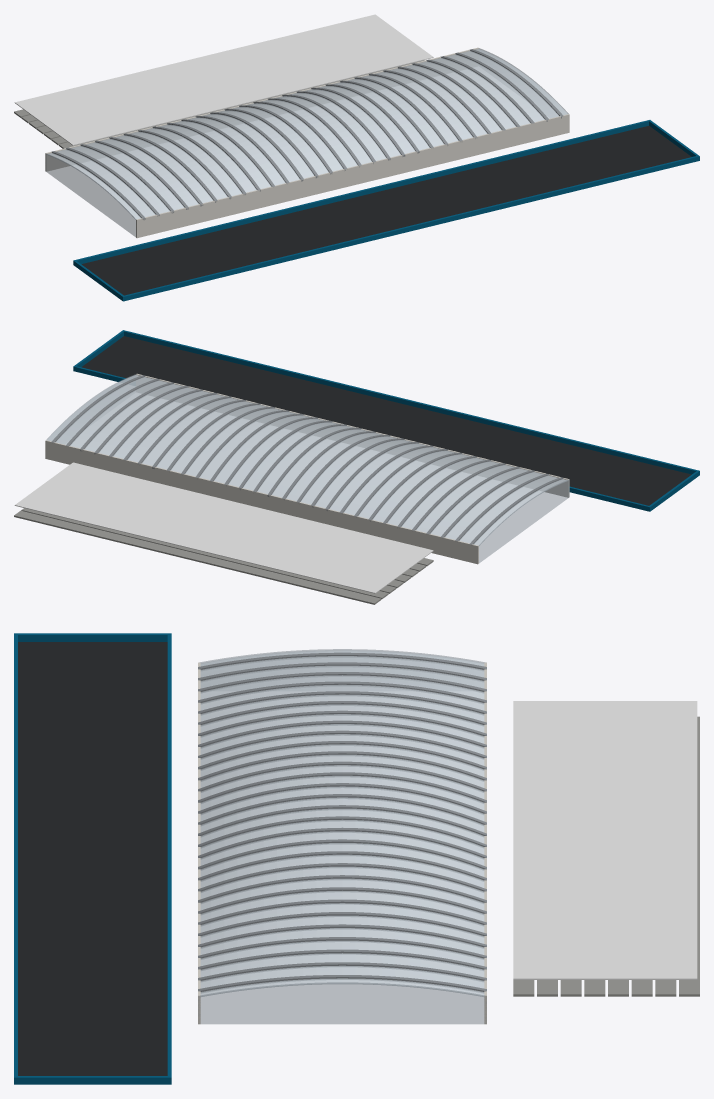
Rendered from old_oak_common.glb.
3 renders of one model, top to bottom at view 1: azimuth 30°, elevation 25°; view 2: azimuth 150°, elevation 25°; view 3: azimuth 270°, elevation 25°, orthographic. The views are drawn at different scales.
Visible parts, largest first — view 1: OldOakCommon; view 2: OldOakCommon; view 3: OldOakCommon.
Part boxes in pixels (left/top/right/bottom): OldOakCommon: left=14, top=14, right=699, bottom=301; OldOakCommon: left=14, top=330, right=699, bottom=604; OldOakCommon: left=14, top=633, right=699, bottom=1084.
Size of the model in its own units: 400 by 26.09 by 261.
